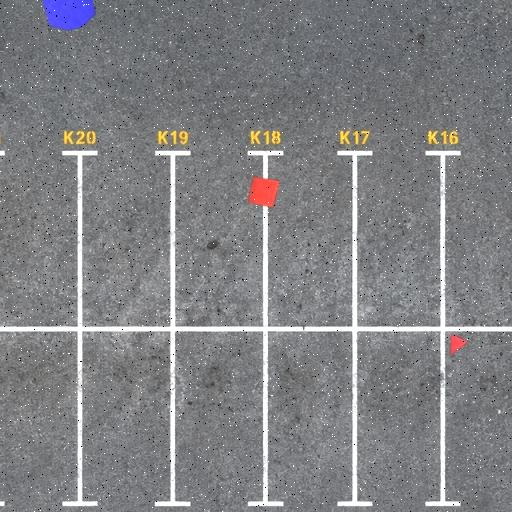RED_SQUARE: (247, 176, 281, 208)
